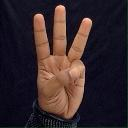hand: (32, 4, 92, 119)
